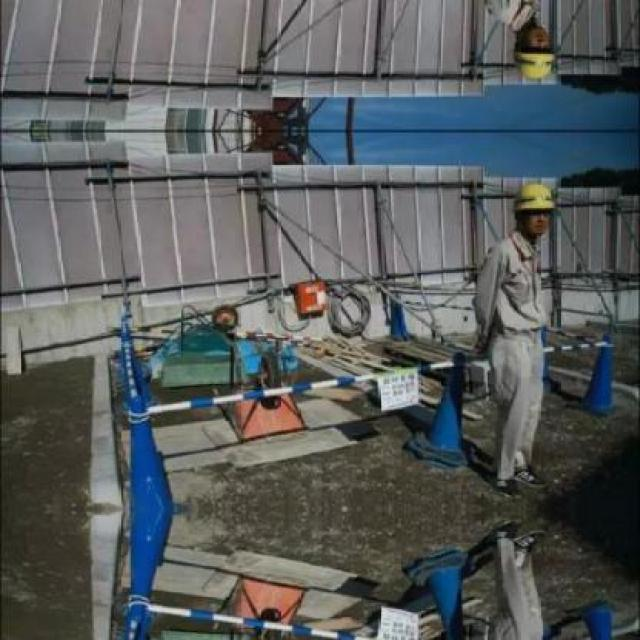helmet: (509, 175, 562, 240), (509, 22, 562, 86)
